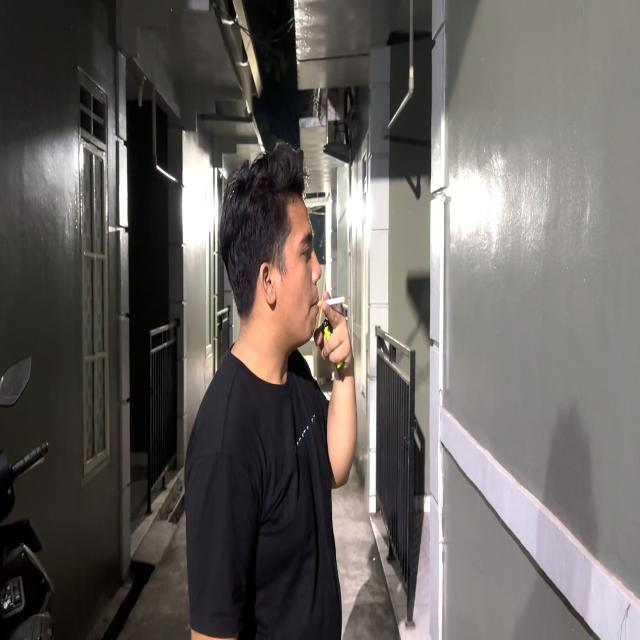cigarette: (315, 292, 349, 309)
smoking: (212, 135, 361, 501)
